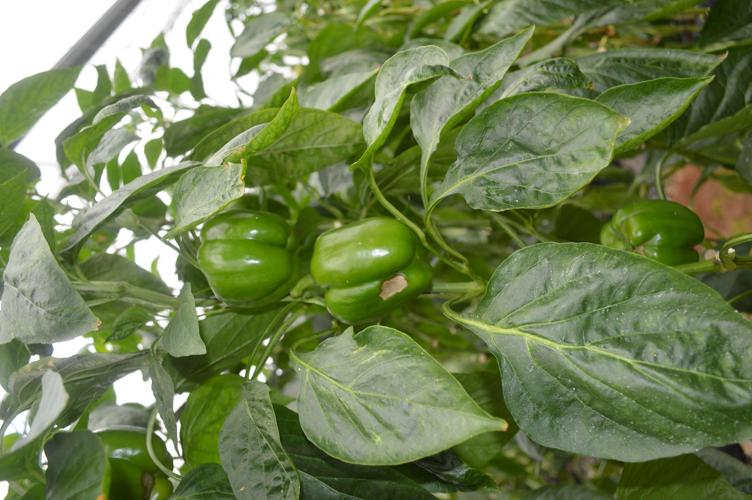BellPepper: (303, 219, 427, 309), (193, 216, 301, 303), (591, 200, 704, 261)
